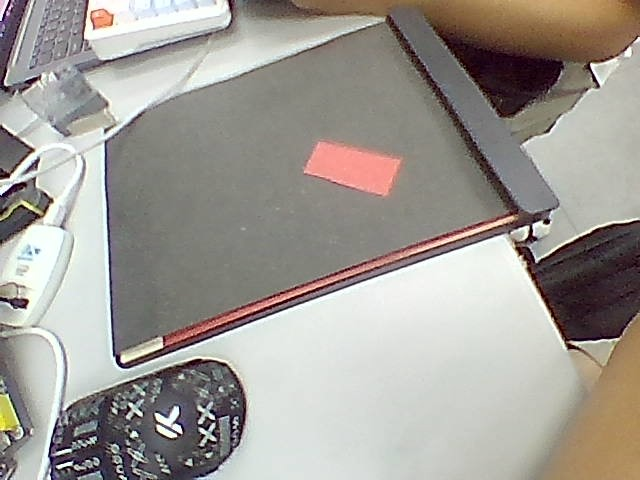card: (305, 141, 401, 195)
